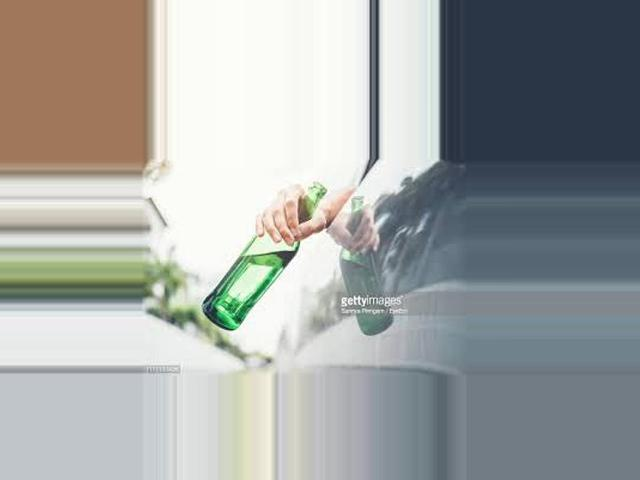beer: (202, 184, 329, 330)
